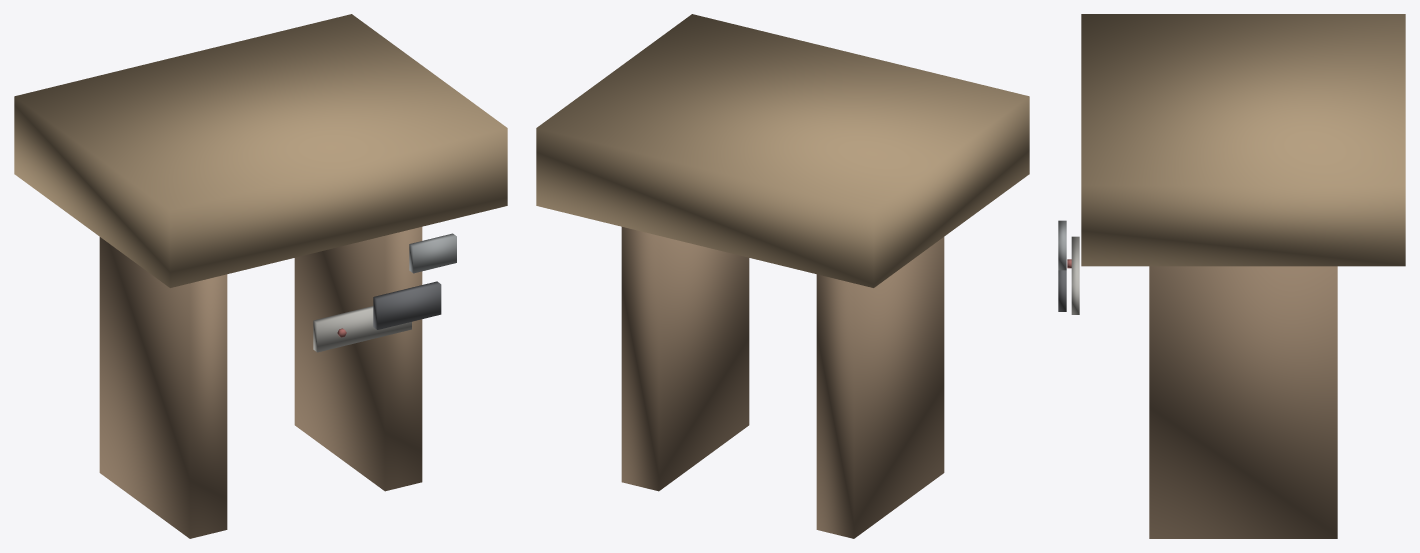
The model's file is butcher_block__weathered.glb.
The picture shows the model from 3 angles, left to right: view 1: azimuth 30°, elevation 25°; view 2: azimuth 150°, elevation 25°; view 3: azimuth 270°, elevation 25°; orthographic projection. The views are drawn at different scales.
Parts seen in each view (by area): view 1: world; view 2: world; view 3: world.
Part boxes in pixels (<box>): world: <box>14,14,507,538</box>; world: <box>536,14,1029,538</box>; world: <box>1058,14,1405,538</box>.
Bounding box in the file's own units: 0.9 × 0.9306 × 0.7709.
